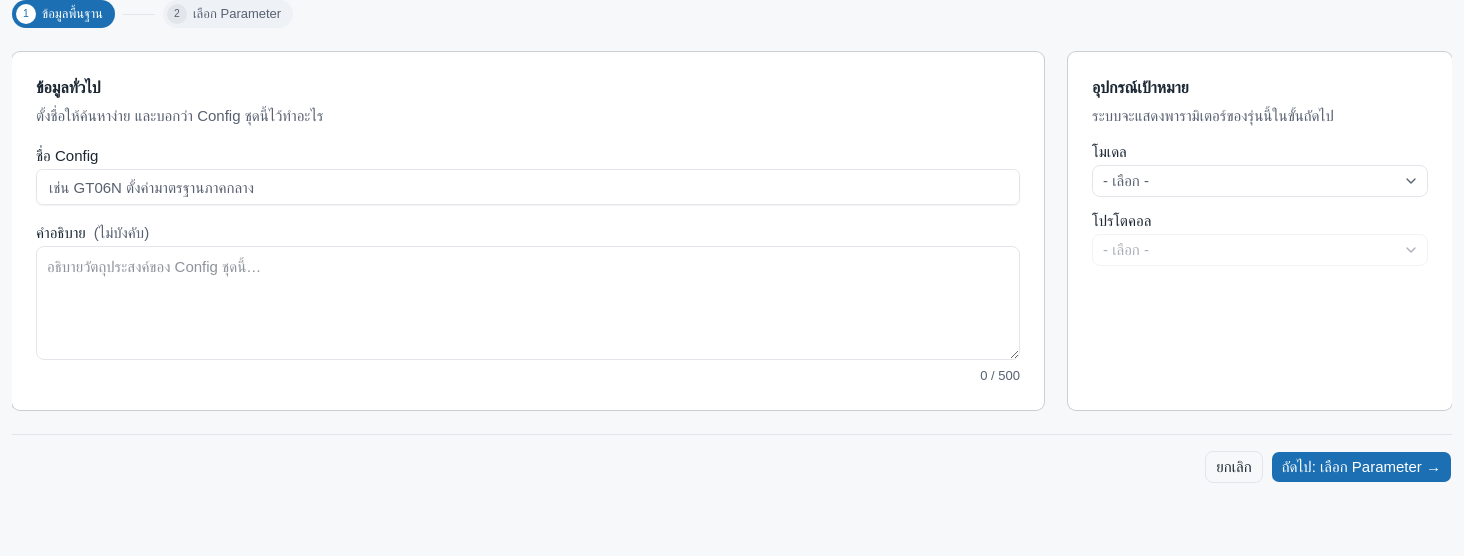
Test: ConfigWizard — json/array dataType (แก้ตามรีวิว B PR #255 ข้อ 2, รอบ 2) › json field กรอก string ที่ parse JSON ไม่ขึ้น -> block submit พร้อมบอกชื่อ field
Type "Test Config" into the field labelled "ชื่อ Config" at (528, 187), box [36,169,1020,205]
Click the dropdown named "โมเดล" at (1126, 180), box [1092,165,1428,197]
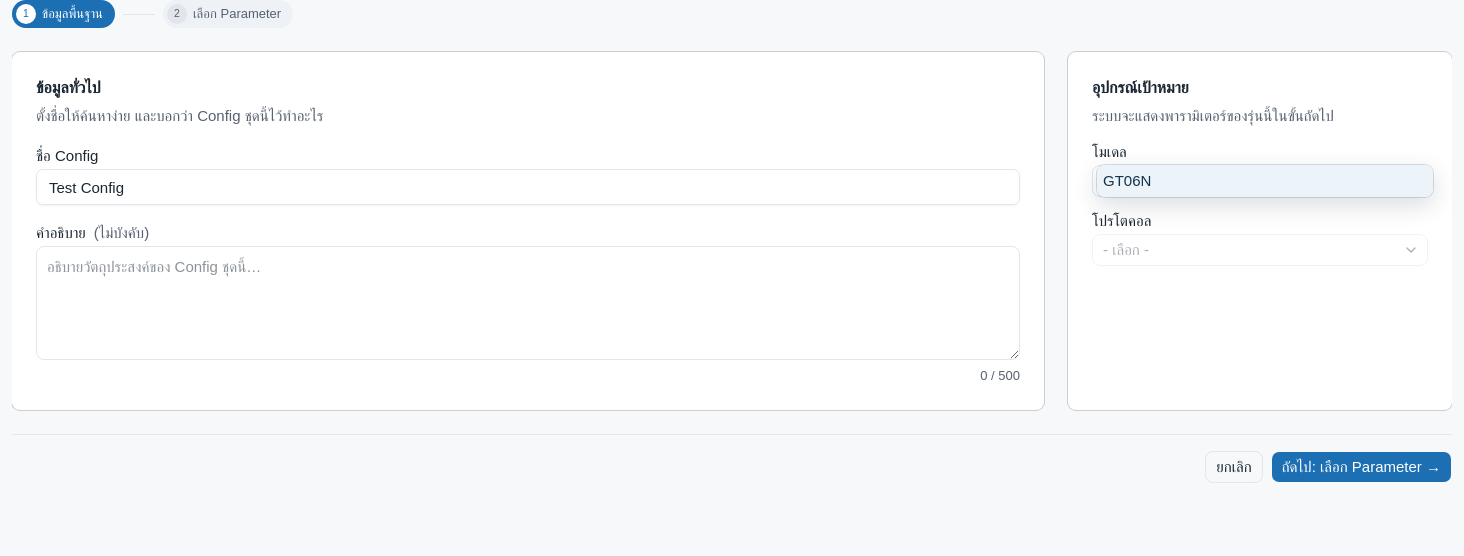
Click the option "GT06N" at (1127, 180), box [1097,165,1433,197]
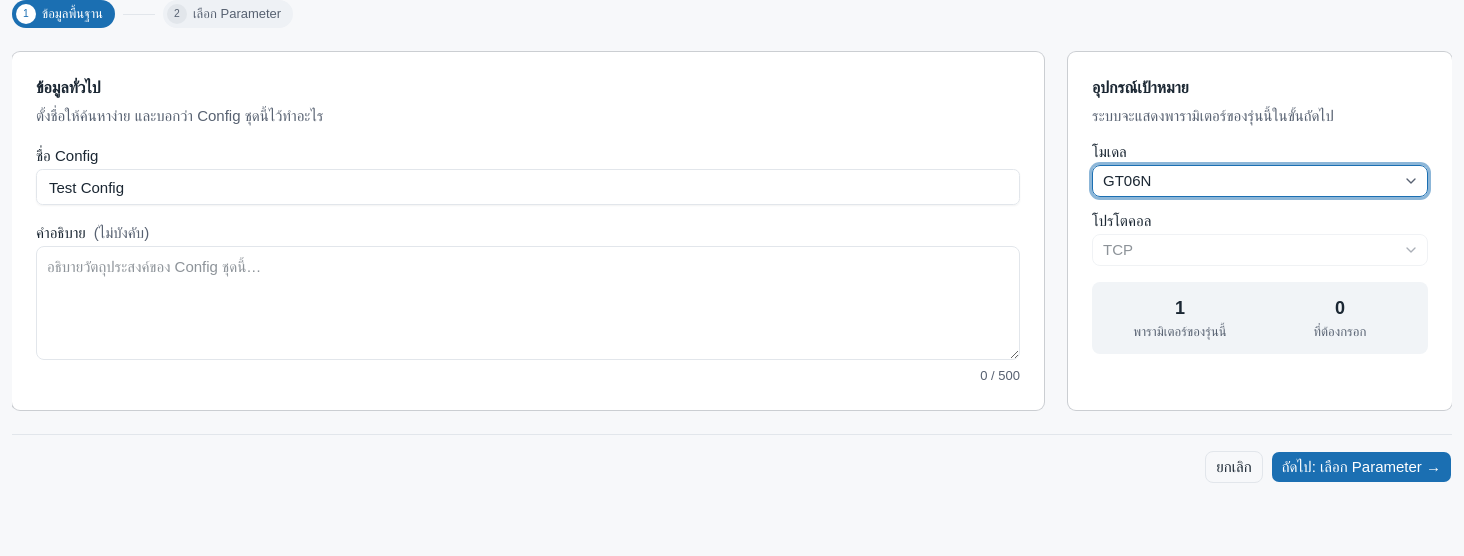
Check: the dropdown named "โปรโตคอล" shows "TCP", box [1092,234,1428,266]
Click the button "ถัดไป: เลือก Parameter →" at (1361, 467), box [1271,451,1452,483]
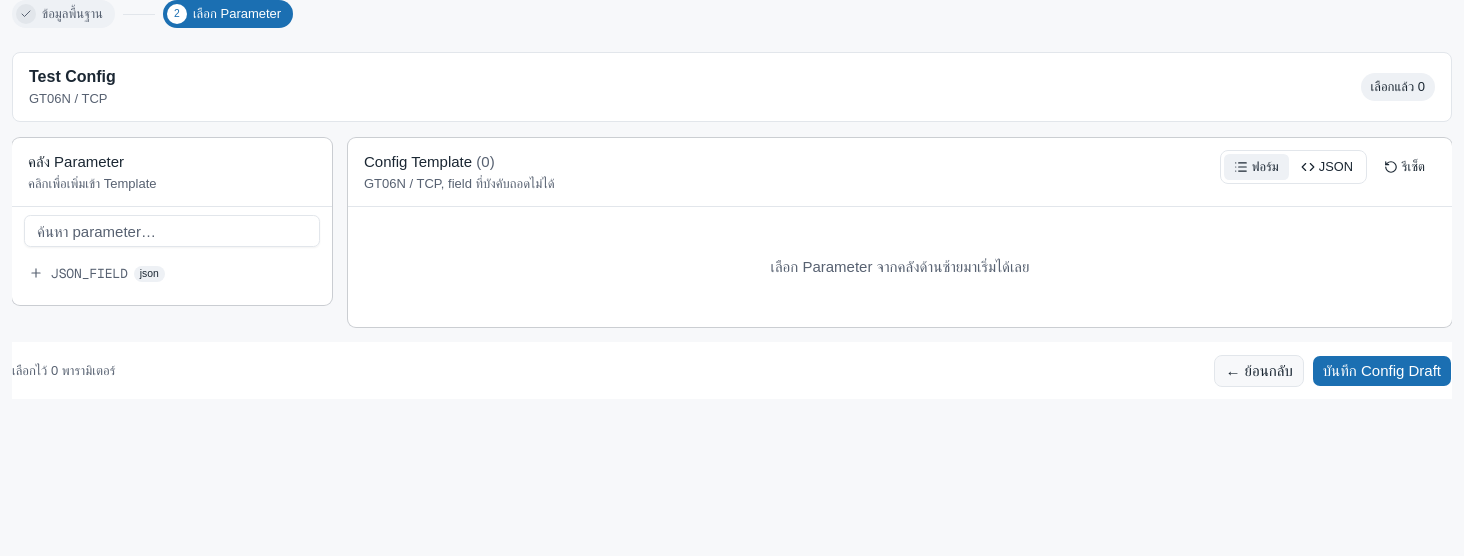
Click the button "JSON_FIELD json" at (89, 274), box [20,255,324,293]
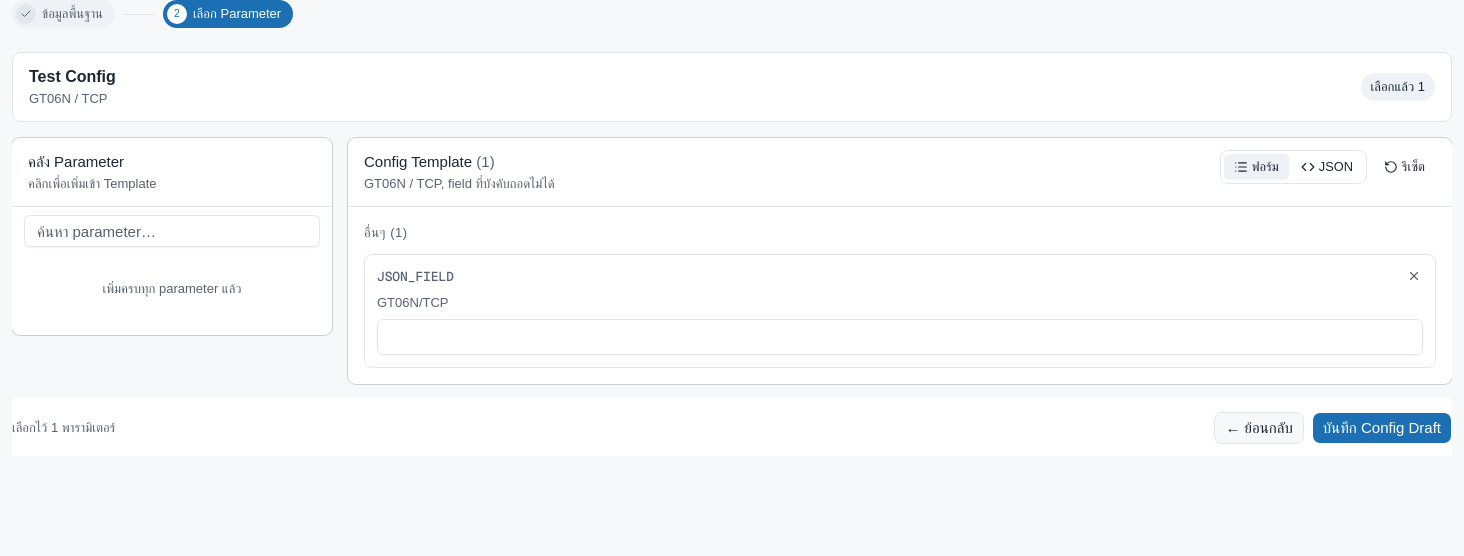
Type "not-json" into the field with id "field-JSON_FIELD" at (900, 337), box [377,319,1423,355]
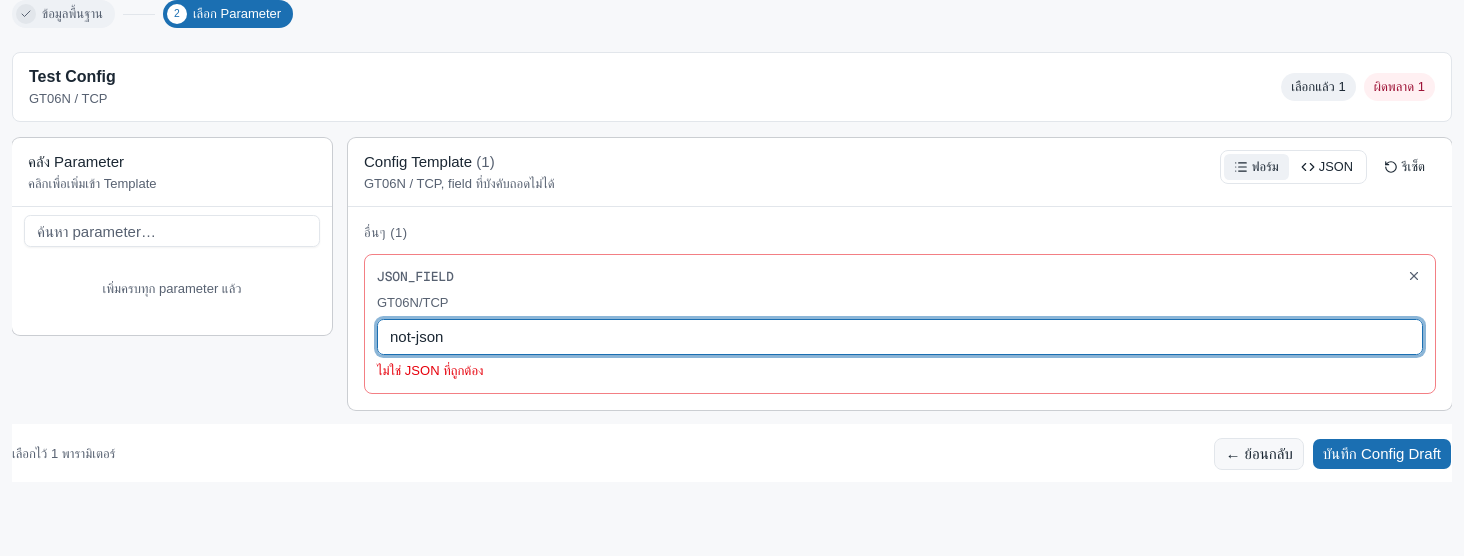
Click the button "บันทึก Config Draft" at (1382, 454), box [1312,438,1452,470]
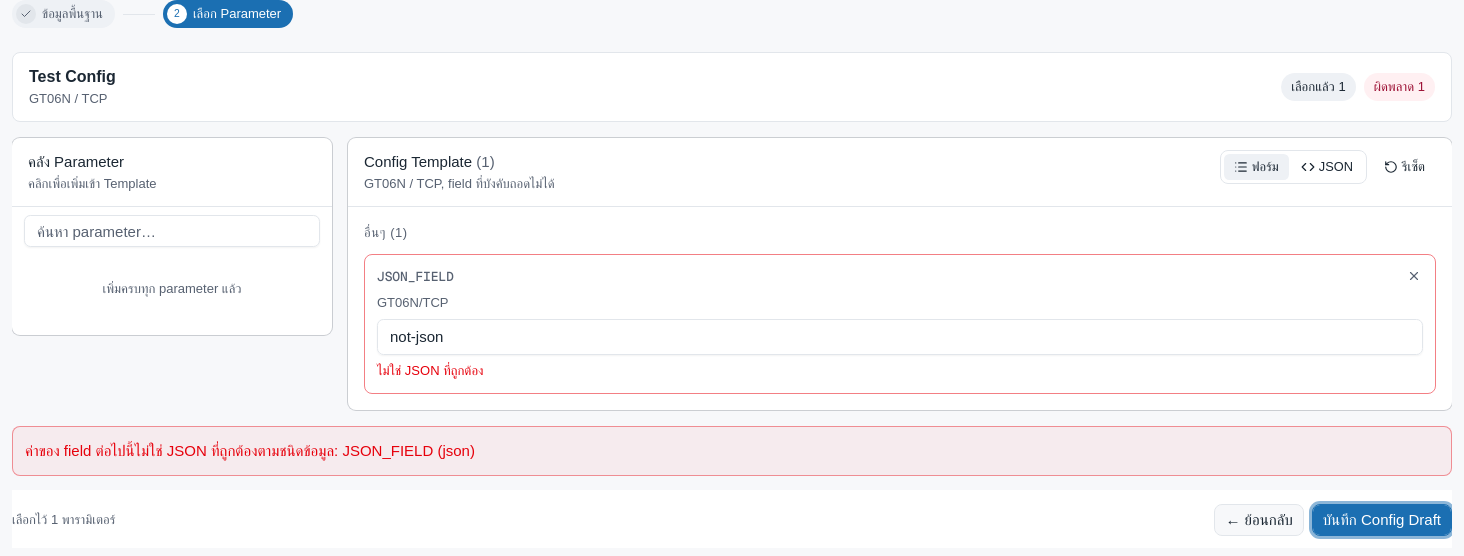
Check: the text "JSON_FIELD (json)" is shown, box [25,442,475,459]
